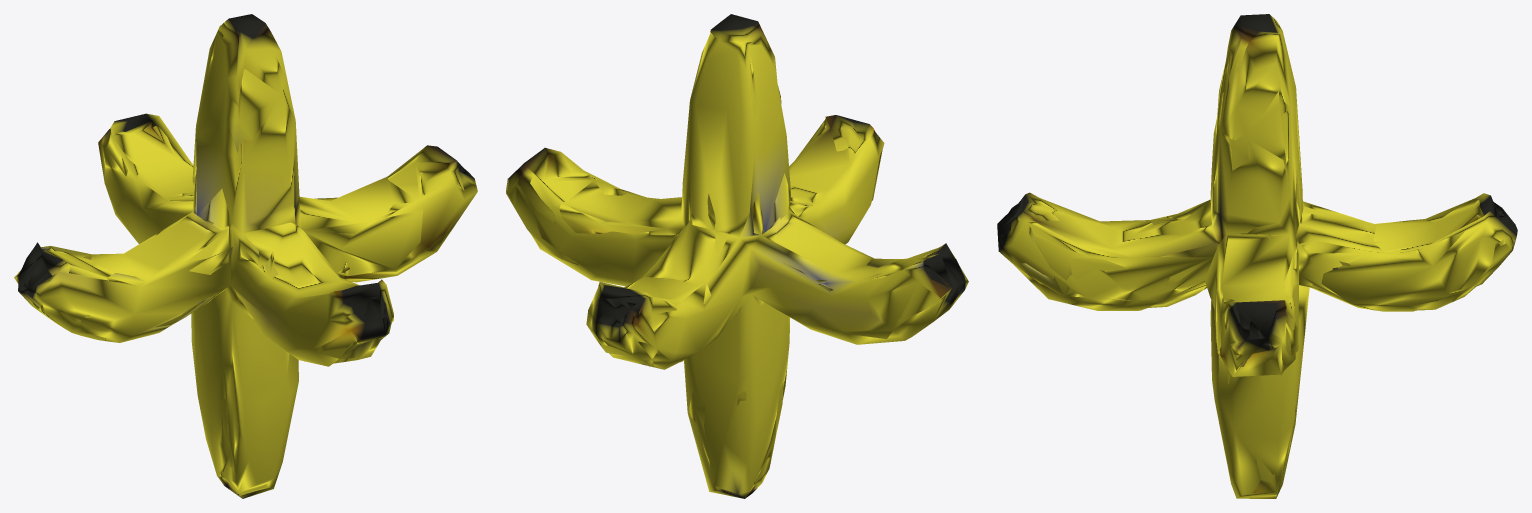
The model's file is gen3d-banana-peel-lod0.glb.
The picture shows the model from 3 angles, left to right: view 1: azimuth 30°, elevation 25°; view 2: azimuth 150°, elevation 25°; view 3: azimuth 270°, elevation 25°; orthographic projection.
Visible parts, largest first — view 1: part_0; view 2: part_0; view 3: part_0.
Boxes of the visible parts, <box> form: part_0: <box>14,14,477,498</box>; part_0: <box>506,14,968,498</box>; part_0: <box>997,14,1517,498</box>.
Bounding box in the file's own units: 0.984 × 0.9954 × 0.9843.
